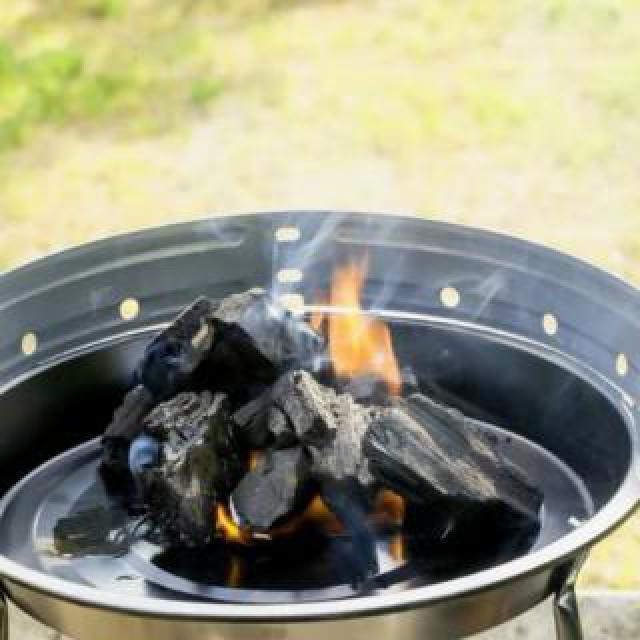Fire: (314, 258, 406, 424)
Smoke: (186, 126, 404, 298), (427, 244, 538, 348)
